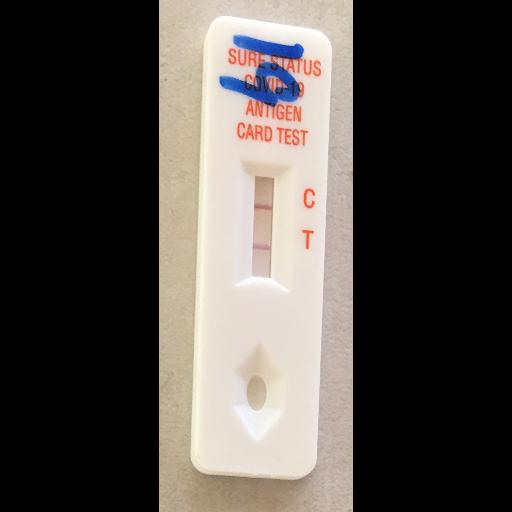Pos: (203, 24, 327, 476)
